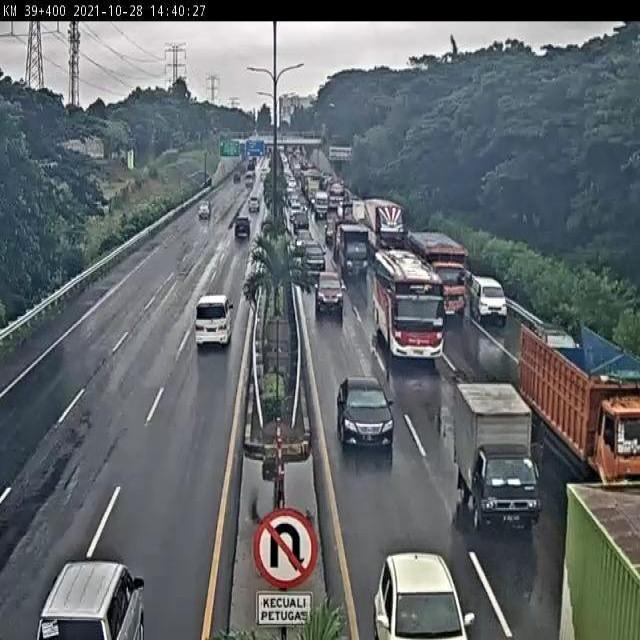bus-l-: (374, 249, 445, 364)
car: (338, 376, 394, 451), (196, 296, 235, 348), (471, 278, 507, 326), (314, 268, 345, 313), (302, 243, 328, 273), (232, 221, 251, 243)
truck-l-: (521, 325, 640, 488), (406, 230, 466, 310)
truck-m-: (339, 222, 370, 274)
truck-s-: (451, 380, 541, 532)
